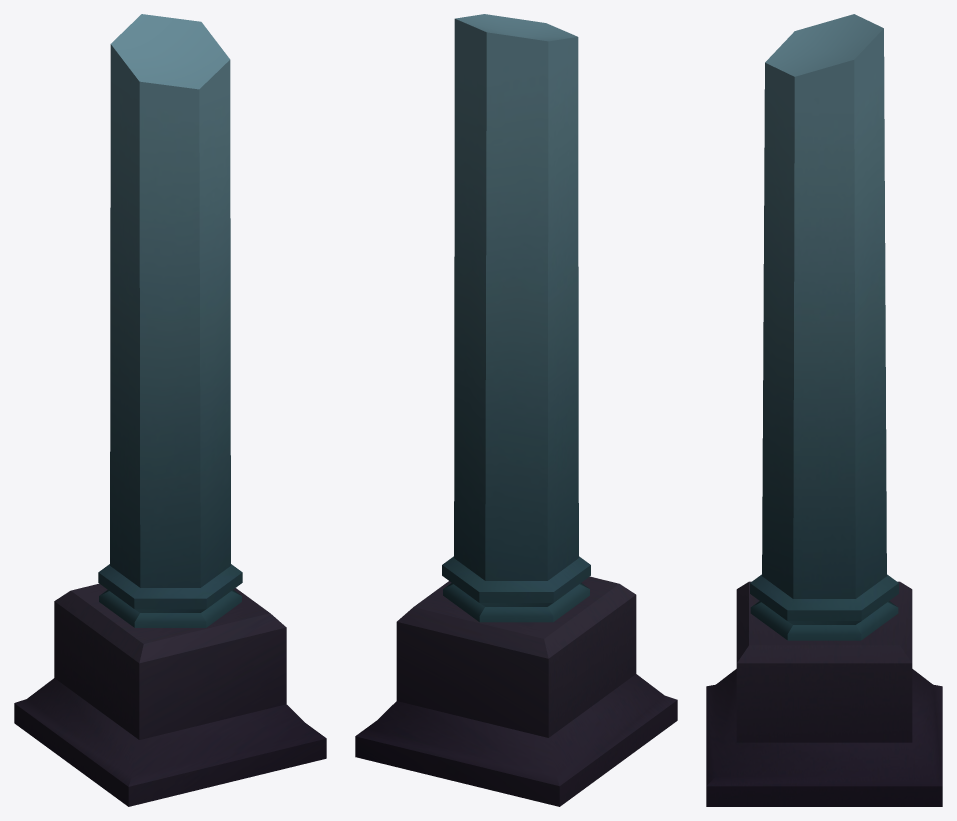
The model's file is Säule_broken.fbx.
3 renders of one model, left to right at view 1: azimuth 30°, elevation 25°; view 2: azimuth 150°, elevation 25°; view 3: azimuth 270°, elevation 25°, orthographic. The views are drawn at different scales.
Visible parts, largest first — view 1: Säule_broken; view 2: Säule_broken; view 3: Säule_broken.
Part boxes in pixels (x1=…): Säule_broken: x1=14, y1=14, x2=326, y2=806; Säule_broken: x1=355, y1=14, x2=677, y2=806; Säule_broken: x1=706, y1=14, x2=942, y2=806.
Bounding box in the file's own units: 4.55 × 15.49 × 4.55.
